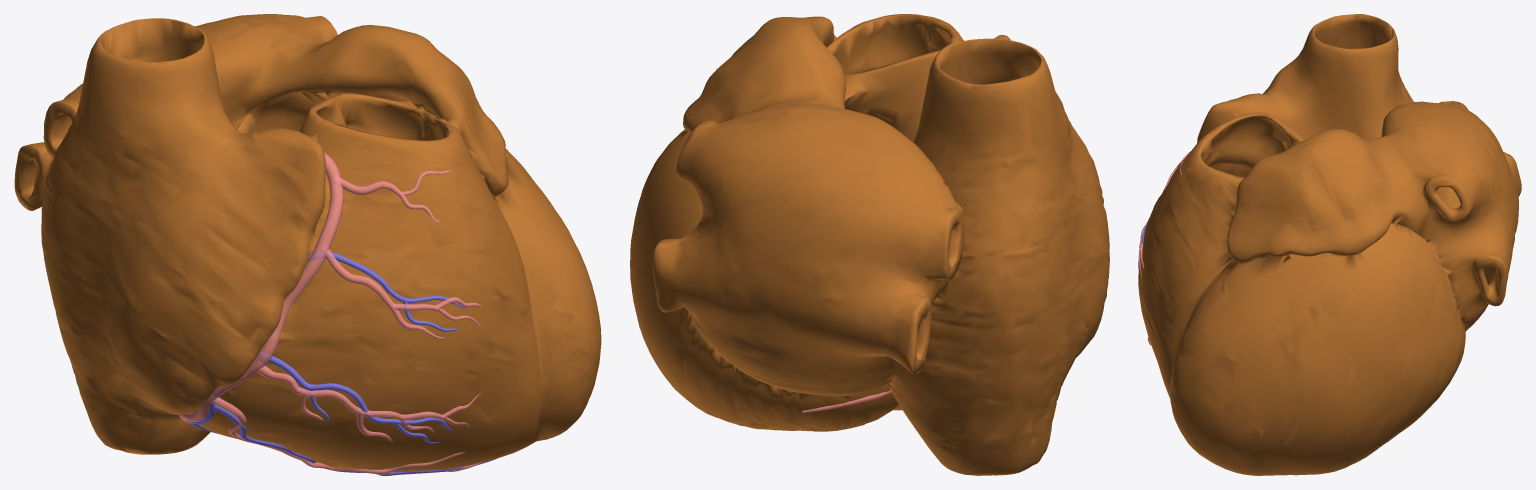
The model's file is heart.glb.
3 views of the same model, side by side, from view 1: azimuth 30°, elevation 25°; view 2: azimuth 150°, elevation 25°; view 3: azimuth 270°, elevation 25° (orthographic). The views are drawn at different scales.
Visible parts, largest first — view 1: Object_152, Object_122, Object_177; view 2: Object_152; view 3: Object_152.
Part boxes in pixels (bbox=[...]): Object_152: bbox=[14, 14, 601, 472]; Object_122: bbox=[179, 152, 486, 474]; Object_177: bbox=[188, 252, 497, 475]; Object_152: bbox=[630, 14, 1109, 475]; Object_152: bbox=[1138, 14, 1521, 475].
Size of the model in its own units: 0.1193 by 0.1088 by 0.1131.
